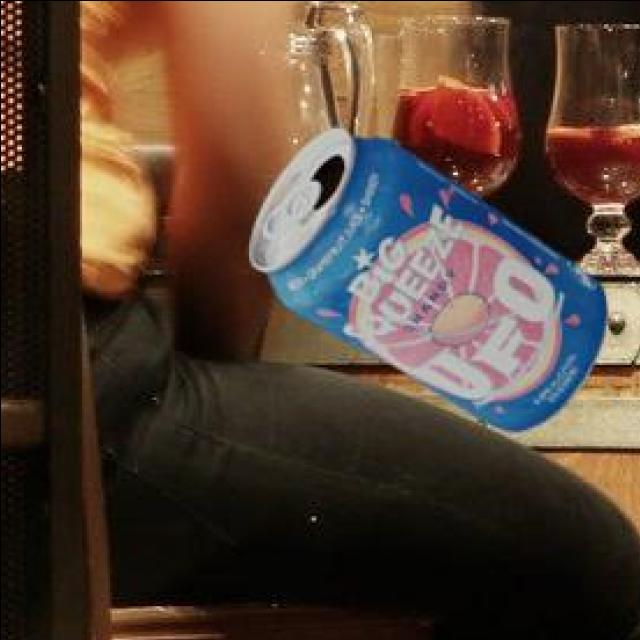logam: (245, 124, 602, 428)
